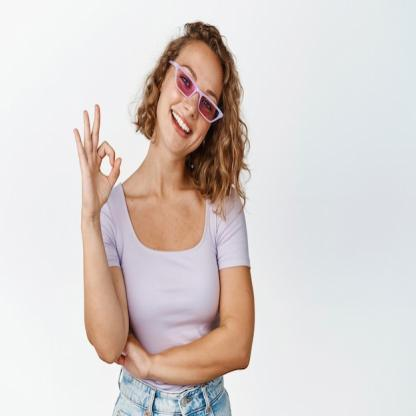ok: (74, 100, 124, 216)
